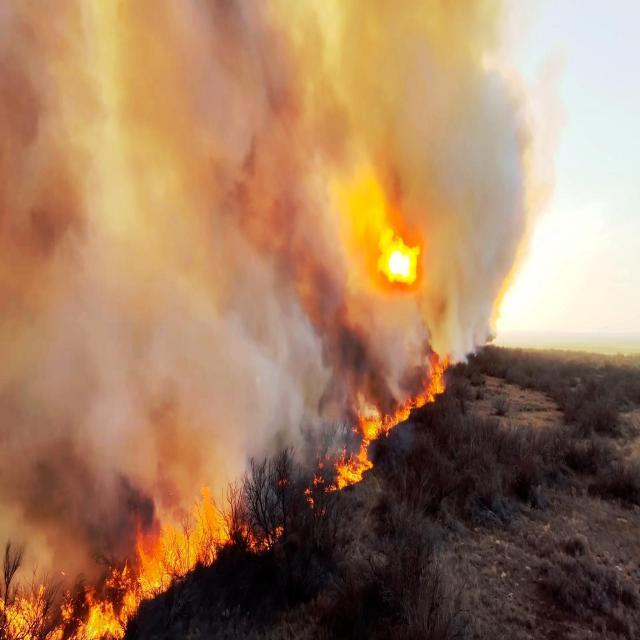Fire: (122, 476, 238, 618), (419, 358, 445, 413)
Smoke: (1, 0, 348, 418), (11, 0, 125, 562), (430, 36, 537, 316)
